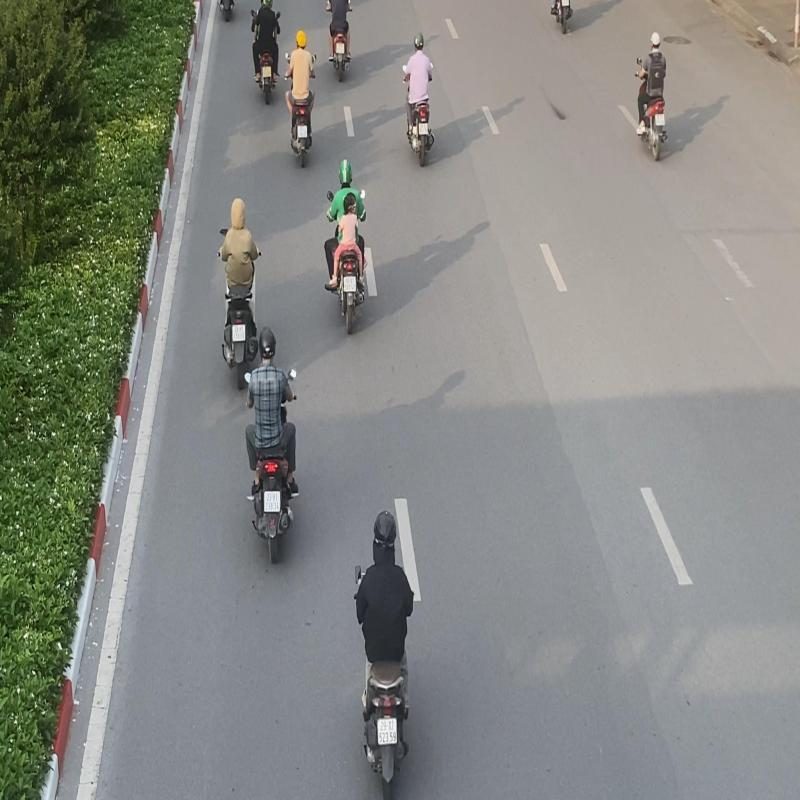helmet: (373, 508, 398, 548), (258, 324, 276, 360), (338, 158, 352, 186)
licenseplate: (376, 718, 398, 746), (264, 489, 282, 514), (342, 276, 356, 292)
motorcyclist: (353, 508, 417, 800), (244, 323, 301, 566), (324, 158, 370, 336)
nohelmet: (344, 192, 358, 216)
